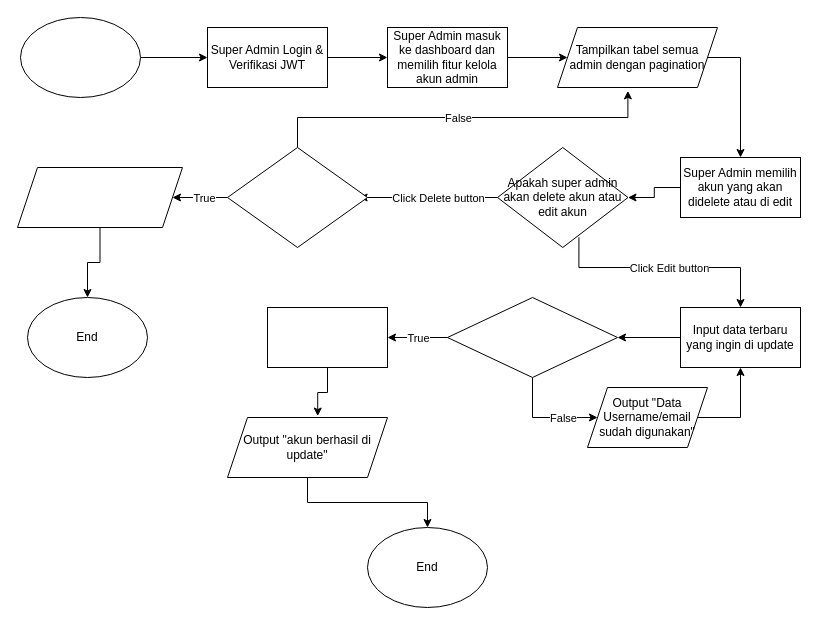
Image size: 818x625. Some labels were removed from this diagram. The centre of each missing label's shape, as x and y in pixels:
Output "akun berhasil di update ": point 99,197
Output "Apakah akun ingin didelete": point 297,197
Sietem akan melakukan Pengecekan Duplikat" (apakah username/email sudah ada?): point 532,337
Sistem akan mengupdate data terbaru: point 327,337
Start: point 80,57
